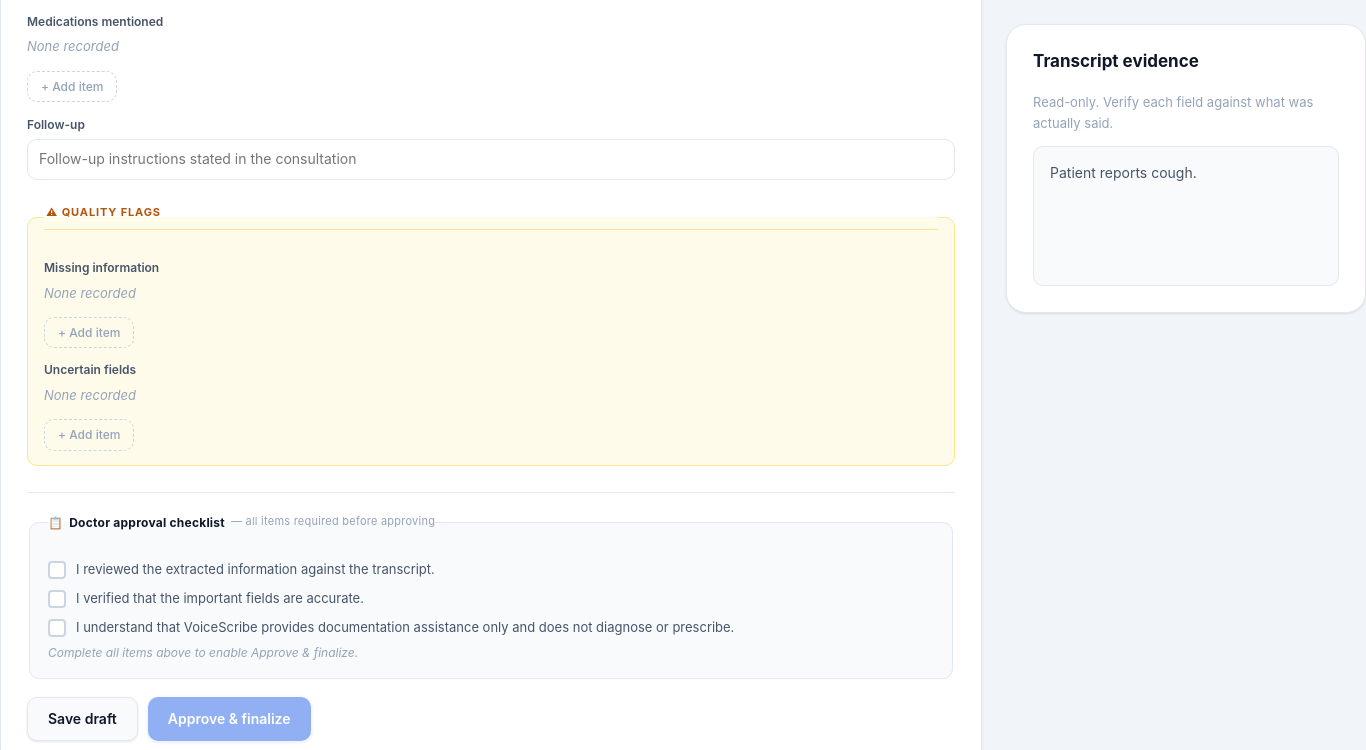
Test case: 4. missing patientId prevents save › save draft shows validation error when patientId is null
(page scrolled)
Click the button "Save draft" at (82, 719), box [27,697,138,741]
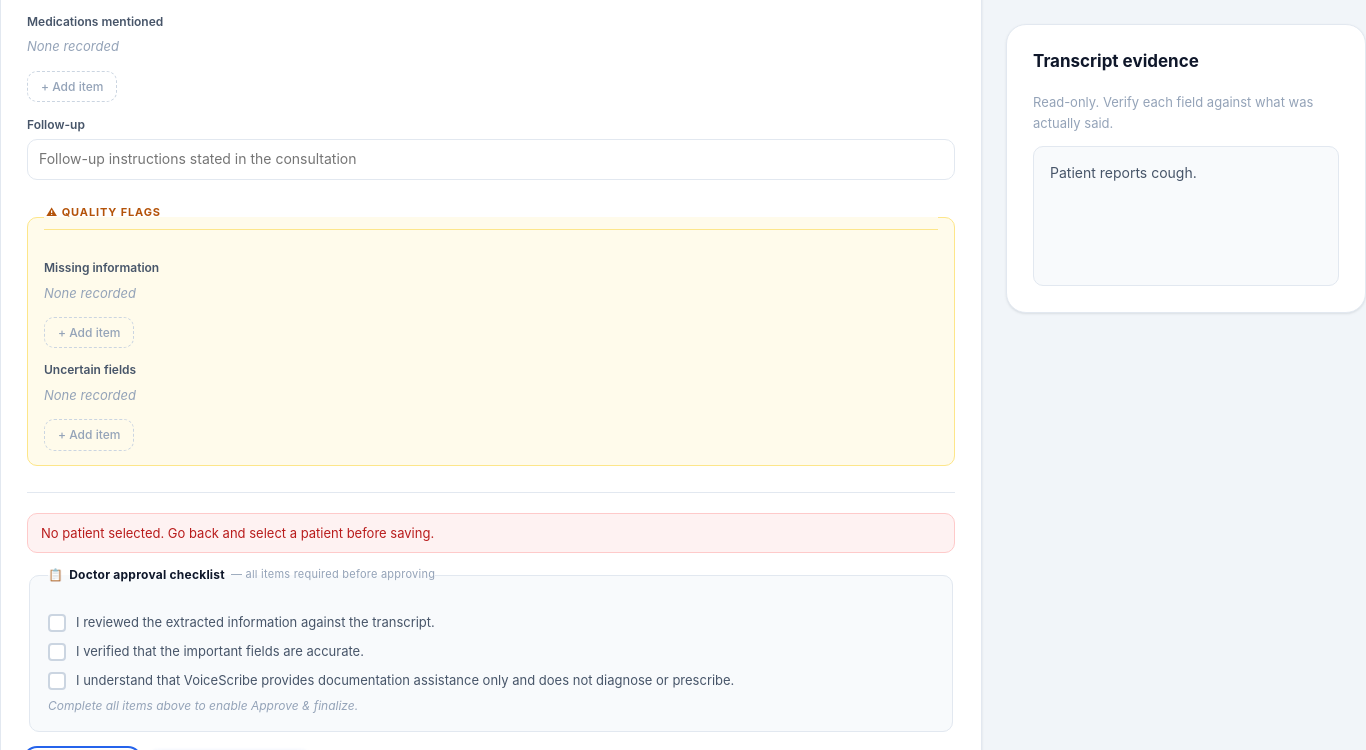
Check: the message "No patient selected. Go back and select a patient before saving." is shown, box [27,513,955,554]
Check: the message shows "No patient selected", box [41,525,434,541]
